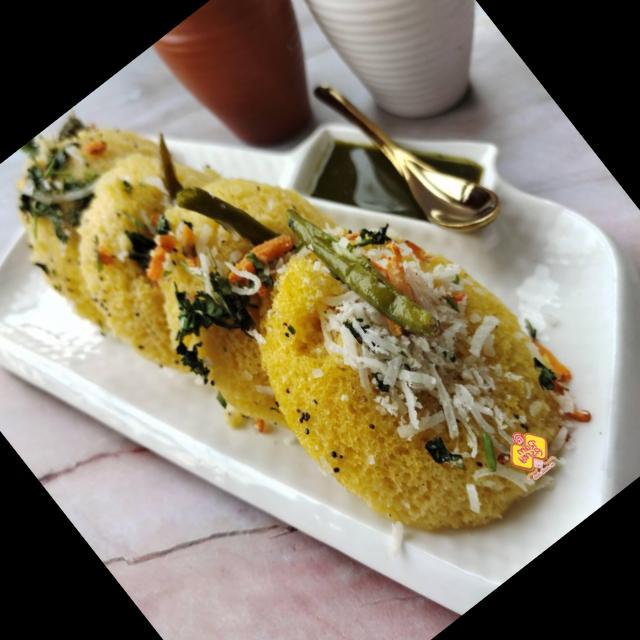dhokla: (0, 0, 586, 629)
